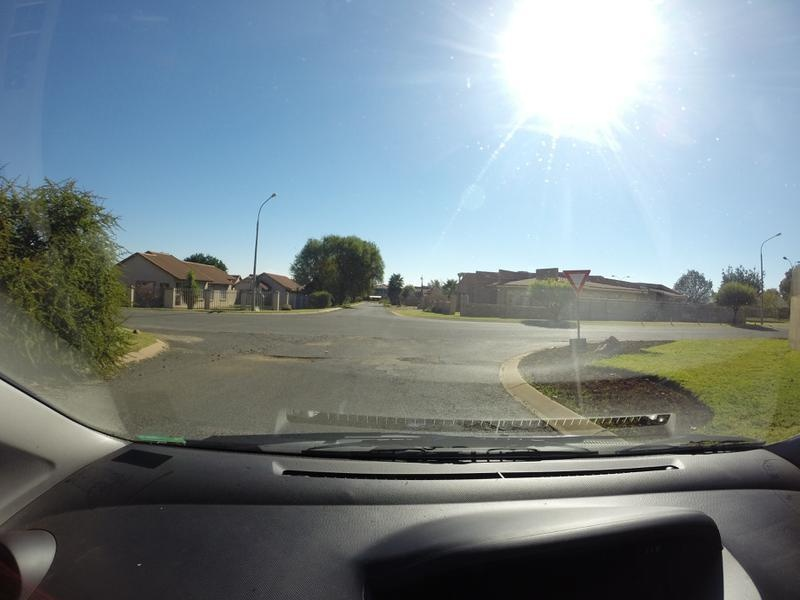pothole: (250, 353, 332, 364), (443, 423, 516, 431), (390, 355, 442, 366)
